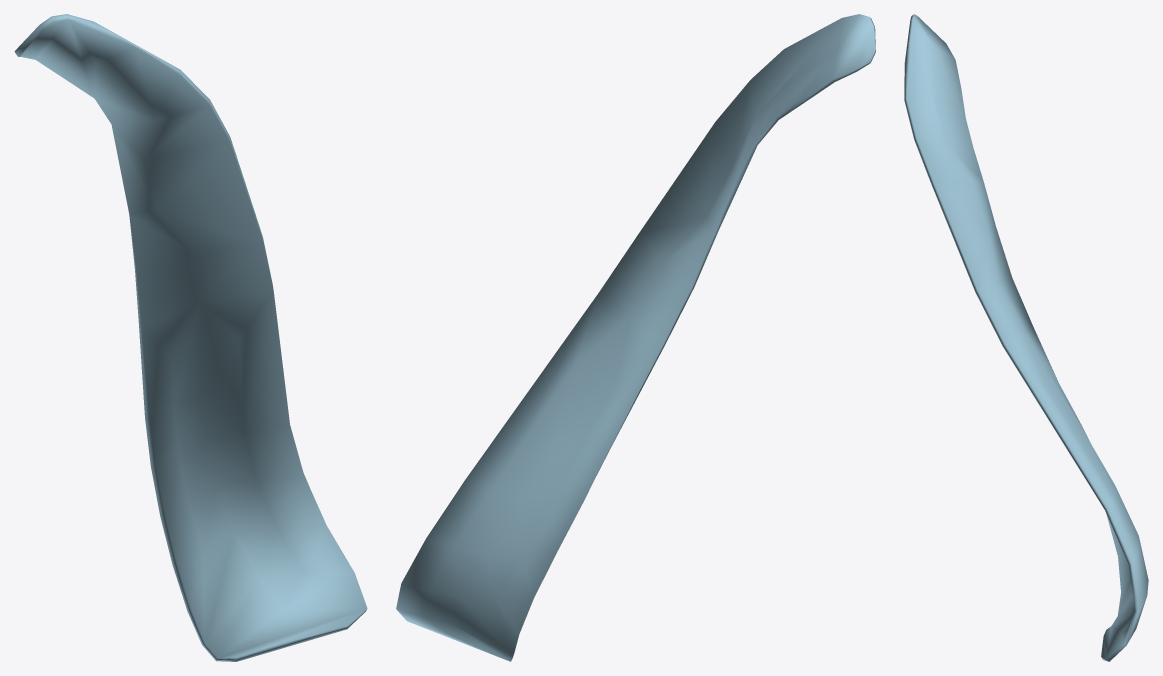
The model's file is articulacoes-oblique-popliteal-ligament-r.glb.
3 renders of one model, left to right at view 1: azimuth 30°, elevation 25°; view 2: azimuth 150°, elevation 25°; view 3: azimuth 270°, elevation 25°, orthographic. The views are drawn at different scales.
Parts seen in each view (by area): view 1: Oblique popliteal ligament.r; view 2: Oblique popliteal ligament.r; view 3: Oblique popliteal ligament.r.
Boxes of the visible parts, bbox=[...] form: Oblique popliteal ligament.r: bbox=[14, 14, 367, 661]; Oblique popliteal ligament.r: bbox=[396, 14, 875, 661]; Oblique popliteal ligament.r: bbox=[904, 14, 1148, 661].
Size of the model in its own units: 0.0436 by 0.0711 by 0.0304.
